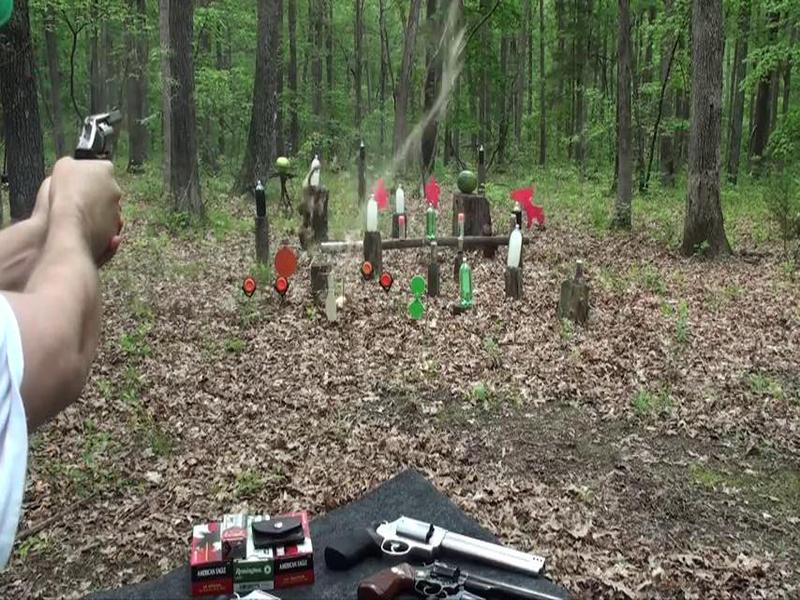Revolver: (64, 97, 139, 175)
